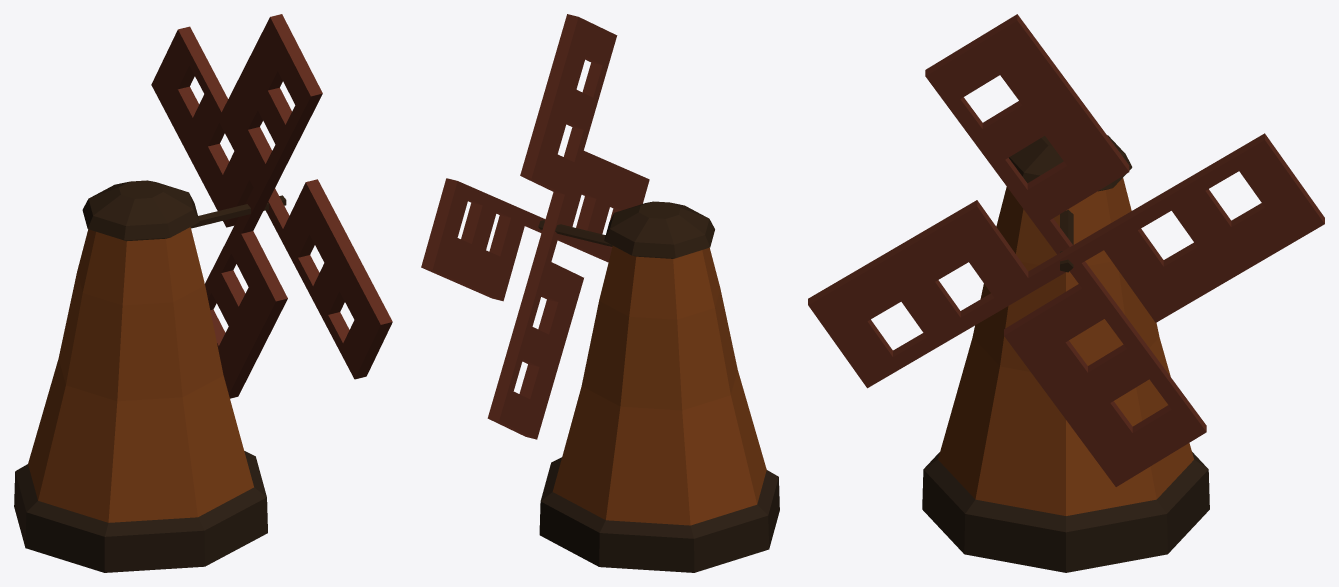
The model's file is windmillcolored.fbx.
3 renders of one model, left to right at view 1: azimuth 30°, elevation 25°; view 2: azimuth 150°, elevation 25°; view 3: azimuth 270°, elevation 25°, orthographic. The views are drawn at different scales.
Visible parts, largest first — view 1: Cylinder, Cube.001, Cube, Cylinder.003, Cylinder.002, Cylinder.001; view 2: Cylinder, Cube, Cube.001, Cylinder.003, Cylinder.002, Cylinder.001; view 3: Cube.001, Cube, Cylinder, Cylinder.003, Cylinder.002.
Part boxes in pixels (box(x1,y1,x2,y2)): Cylinder: box(28, 227, 253, 522); Cube.001: box(151, 26, 392, 379); Cube: box(205, 14, 322, 398); Cylinder.003: box(14, 451, 267, 572); Cylinder.002: box(82, 180, 199, 240); Cylinder.001: box(190, 195, 286, 228); Cylinder: box(552, 245, 766, 525); Cube: box(487, 14, 617, 439); Cube.001: box(421, 151, 649, 301); Cylinder.003: box(539, 457, 779, 572); Cylinder.002: box(604, 201, 714, 258); Cylinder.001: box(538, 220, 612, 246); Cube.001: box(808, 133, 1324, 388); Cube: box(925, 14, 1206, 486); Cylinder: box(938, 178, 1193, 515); Cylinder.003: box(922, 452, 1209, 572); Cylinder.002: box(1009, 135, 1132, 191).
Size of the model in its own units: 4438 by 8091 by 6834.
